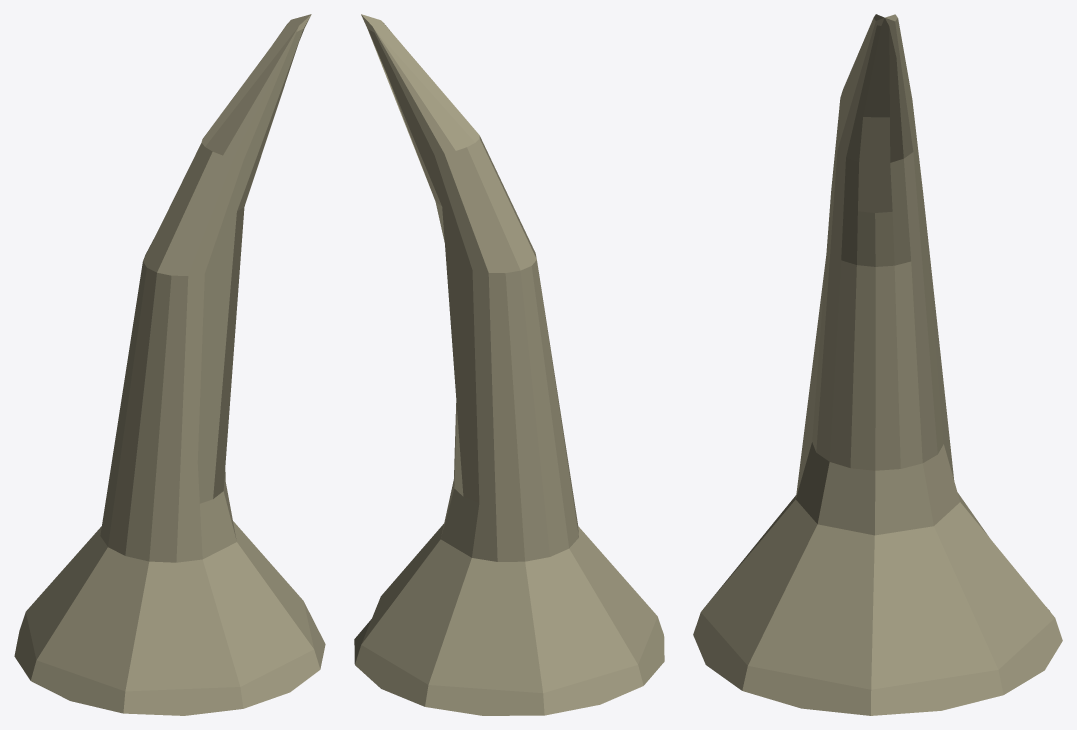
Rendered from dragons_rins_parts.fbx.
The picture shows the model from 3 angles, left to right: view 1: azimuth 30°, elevation 25°; view 2: azimuth 150°, elevation 25°; view 3: azimuth 270°, elevation 25°; orthographic projection. The views are drawn at different scales.
Visible parts, largest first — view 1: Cylinder.001; view 2: Cylinder.001; view 3: Cylinder.001.
Boxes of the visible parts, box(x1,y1,x2,y2) form: Cylinder.001: box(14, 14, 325, 715); Cylinder.001: box(354, 14, 664, 715); Cylinder.001: box(693, 14, 1062, 715).
Bounding box in the file's own units: 362 × 738 × 351.
